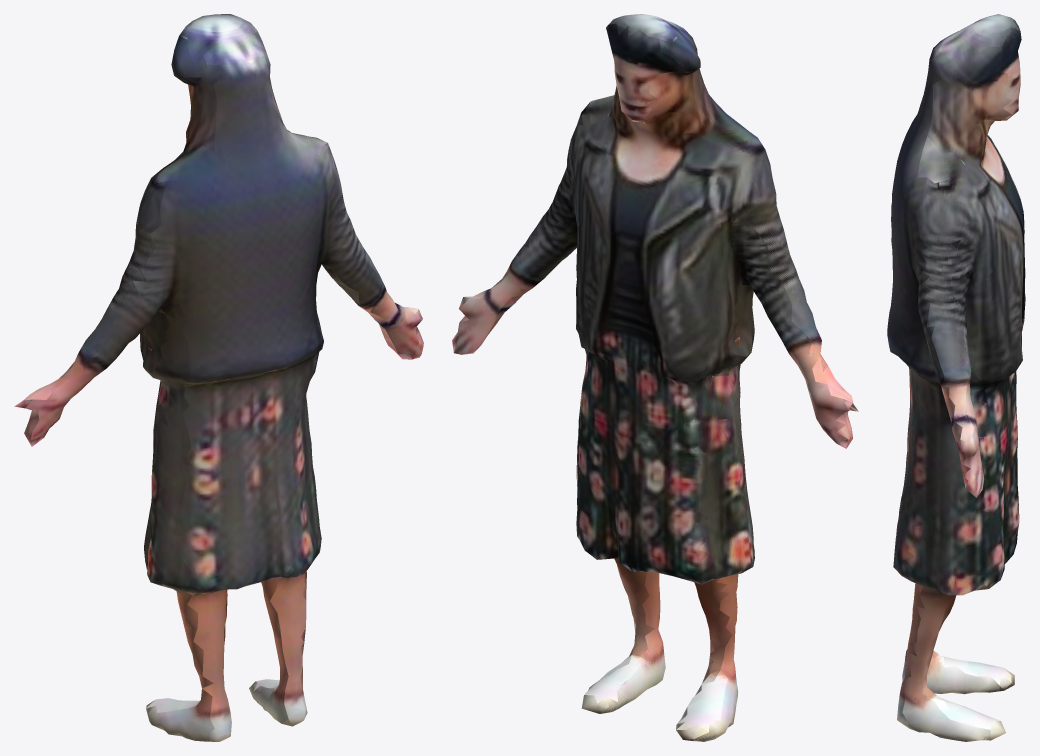
3 renders of one model, left to right at view 1: azimuth 30°, elevation 25°; view 2: azimuth 150°, elevation 25°; view 3: azimuth 270°, elevation 25°, orthographic. The views are drawn at different scales.
Visible parts, largest first — view 1: world; view 2: world; view 3: world.
Boxes of the visible parts, <box> form: world: <box>14,14,423,741</box>; world: <box>452,14,858,741</box>; world: <box>887,14,1025,741</box>.
Bounding box in the file's own units: 0.6152 × 1 × 0.1819.
Materials: 1 (1 with a texture image).
